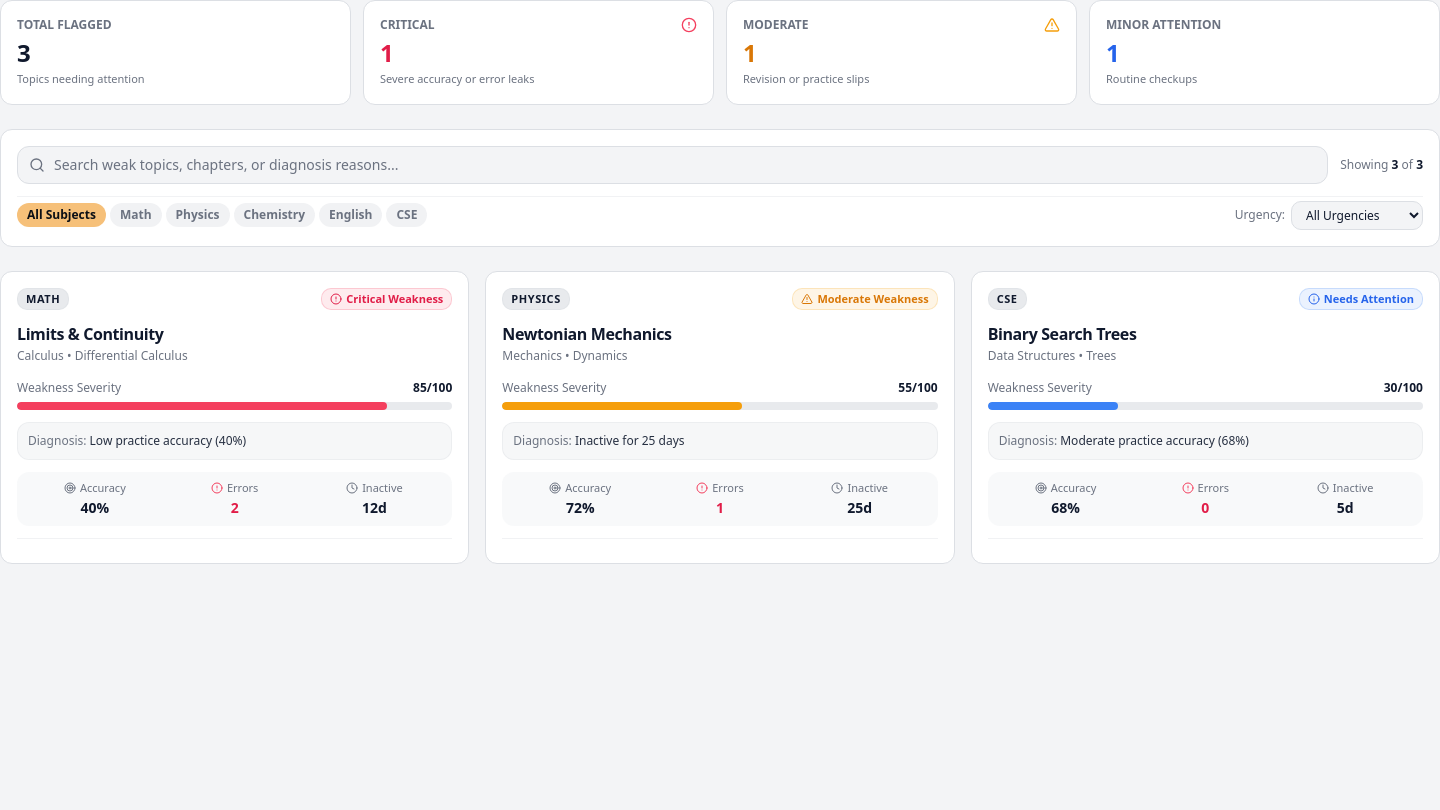
Test: WeakAreaRadar › filters topics by subject button pill
Click the button "Physics" at (198, 215), box [166,203,230,227]
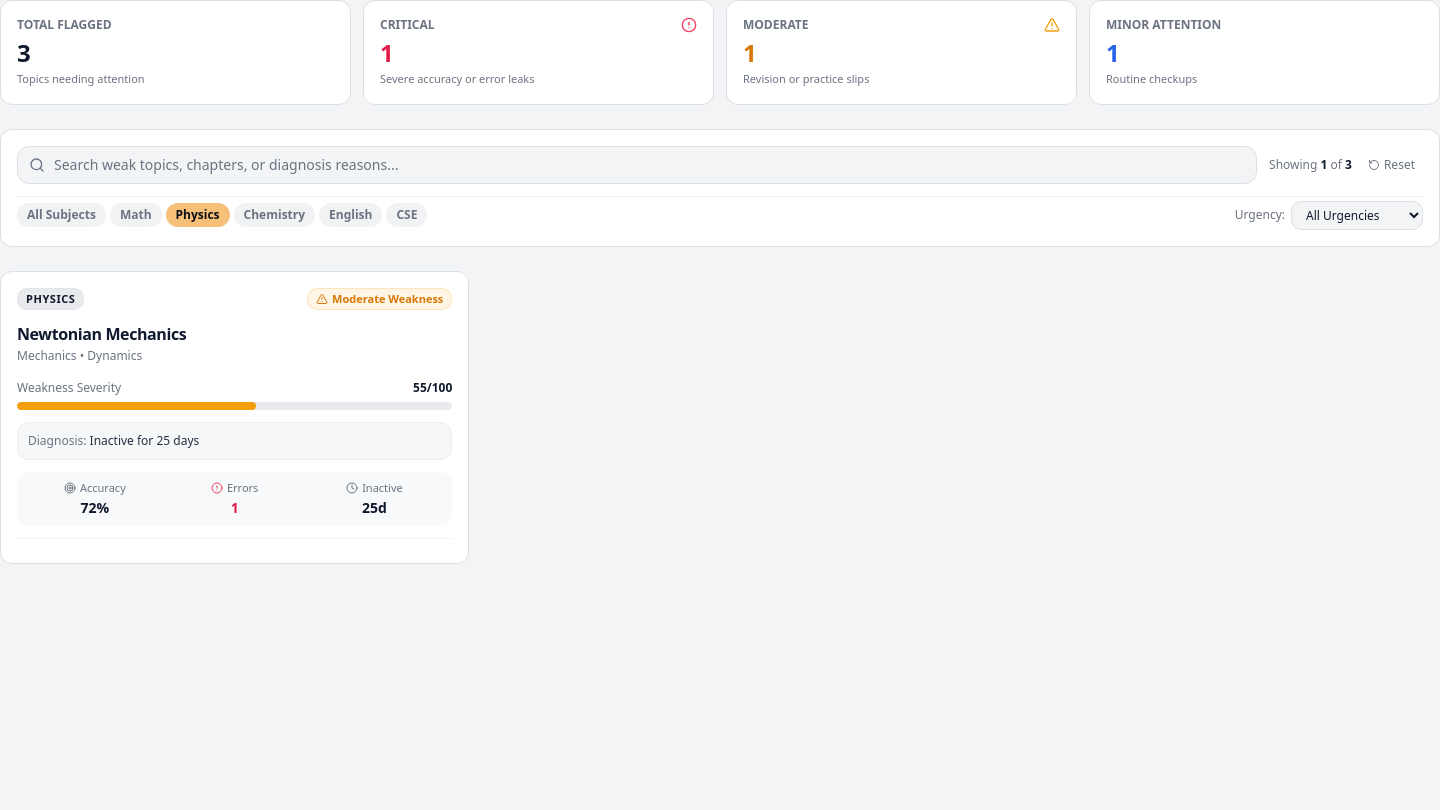
Check: the heading "Newtonian Mechanics" is shown, box [17,323,186,345]
Check: the heading "Limits & Continuity" is gone
Check: the heading "Binary Search Trees" is gone
